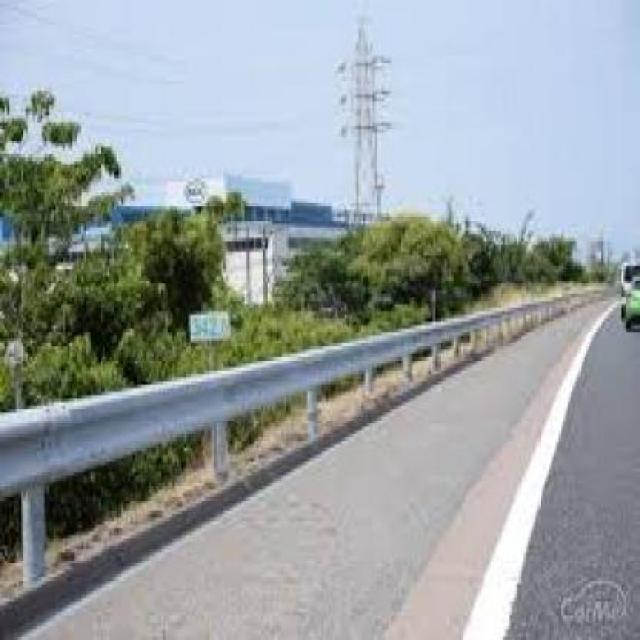Guard rail: (0, 281, 583, 601)
